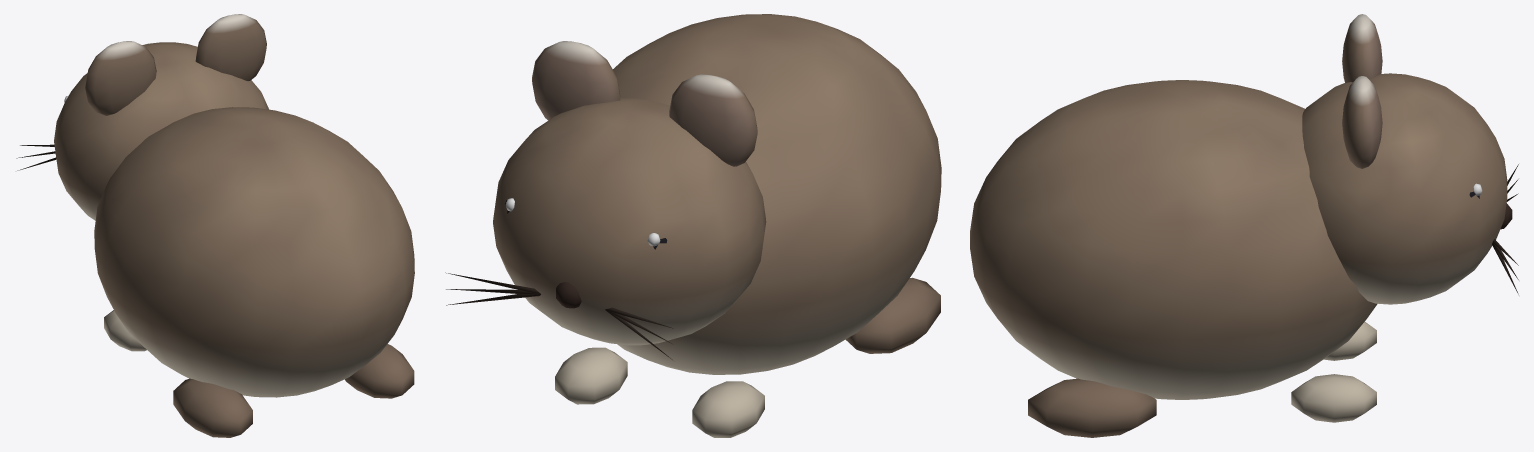
Rendered from Nakiusagi.fbx.
The picture shows the model from 3 angles, left to right: view 1: azimuth 30°, elevation 25°; view 2: azimuth 150°, elevation 25°; view 3: azimuth 270°, elevation 25°; orthographic projection. The views are drawn at different scales.
Visible parts, largest first — view 1: Nakiusagi; view 2: Nakiusagi; view 3: Nakiusagi.
Boxes of the visible parts, left/top/right/bottom form: Nakiusagi: left=16, top=14, right=414, bottom=437; Nakiusagi: left=445, top=14, right=941, bottom=437; Nakiusagi: left=970, top=14, right=1518, bottom=437.
Bounding box in the file's own units: 3.1 × 3.32 × 4.89.
